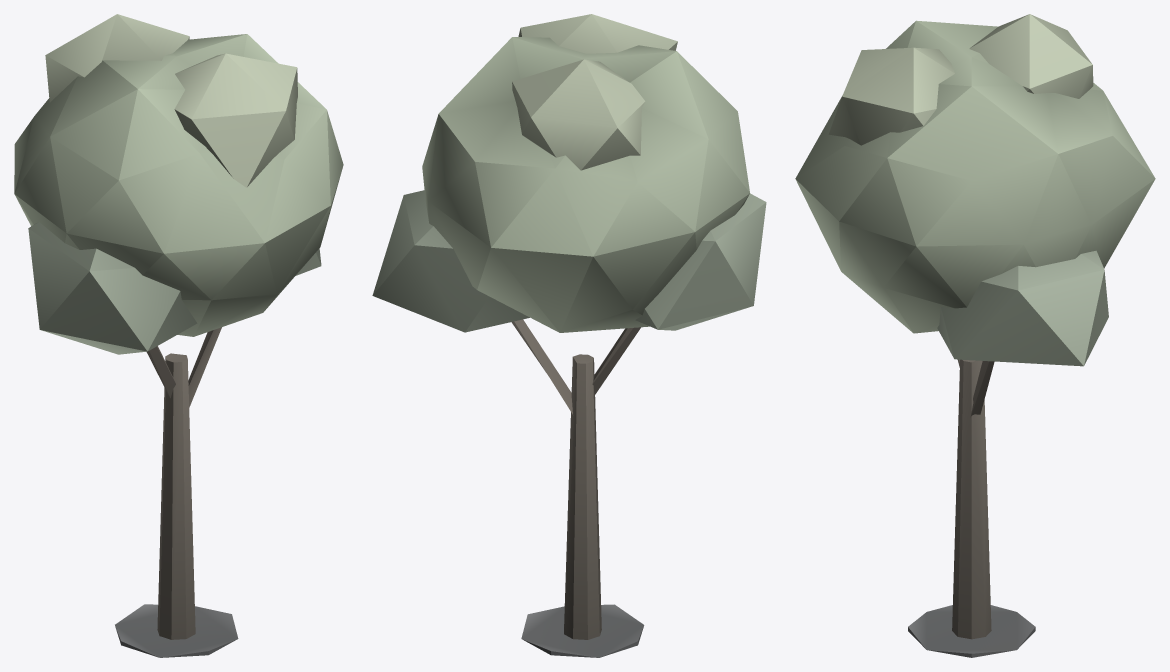
File: tree.lod1.glb
3 renders of one model, left to right at view 1: azimuth 30°, elevation 25°; view 2: azimuth 150°, elevation 25°; view 3: azimuth 270°, elevation 25°, orthographic.
Size of the model in its own units: 3.09 by 5.73 by 3.11.
